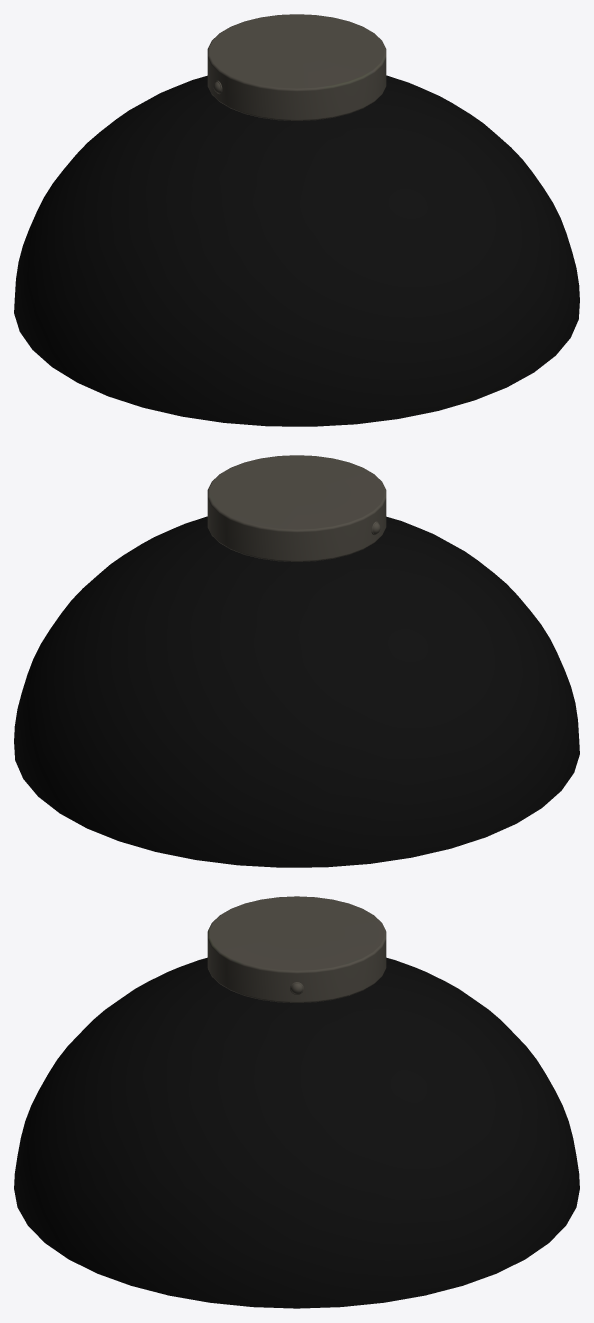
Rendered from abo-B082DPXR2Z.glb.
3 views of the same model, one above another, from view 1: azimuth 30°, elevation 25°; view 2: azimuth 150°, elevation 25°; view 3: azimuth 270°, elevation 25° (orthographic).
Bounding box in the file's own units: 0.355 × 0.177 × 0.355.
1 material, 1 textured.
